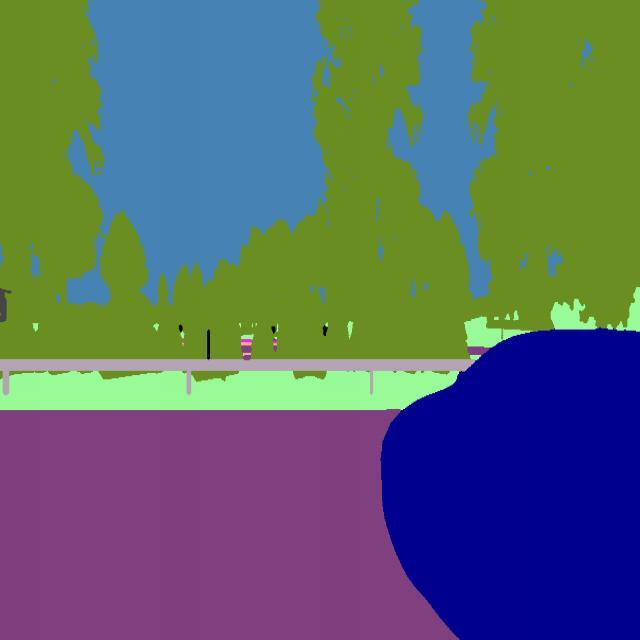unsafe: (378, 324, 640, 639)
